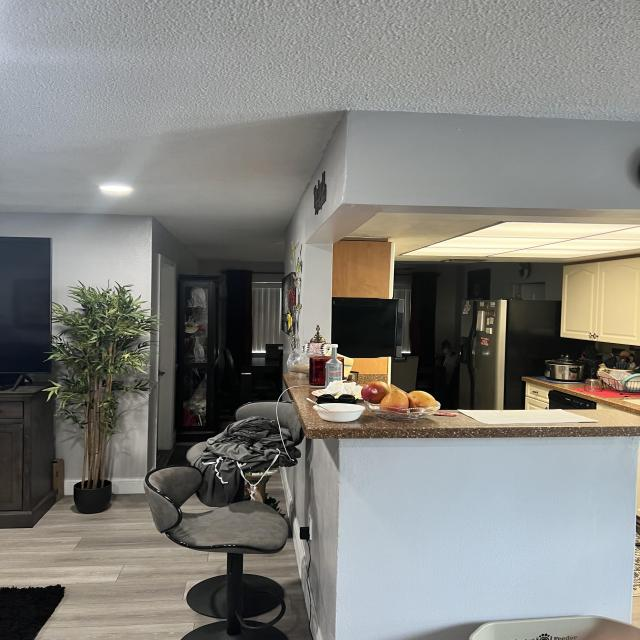Appliance_Dishwasher: (549, 390, 597, 410)
Appliance_Fridge: (459, 299, 582, 410)
Cabinet_Raised_Panel: (561, 255, 640, 348), (525, 383, 551, 410)
Countertop_Granite: (285, 371, 640, 439), (521, 375, 640, 413)
